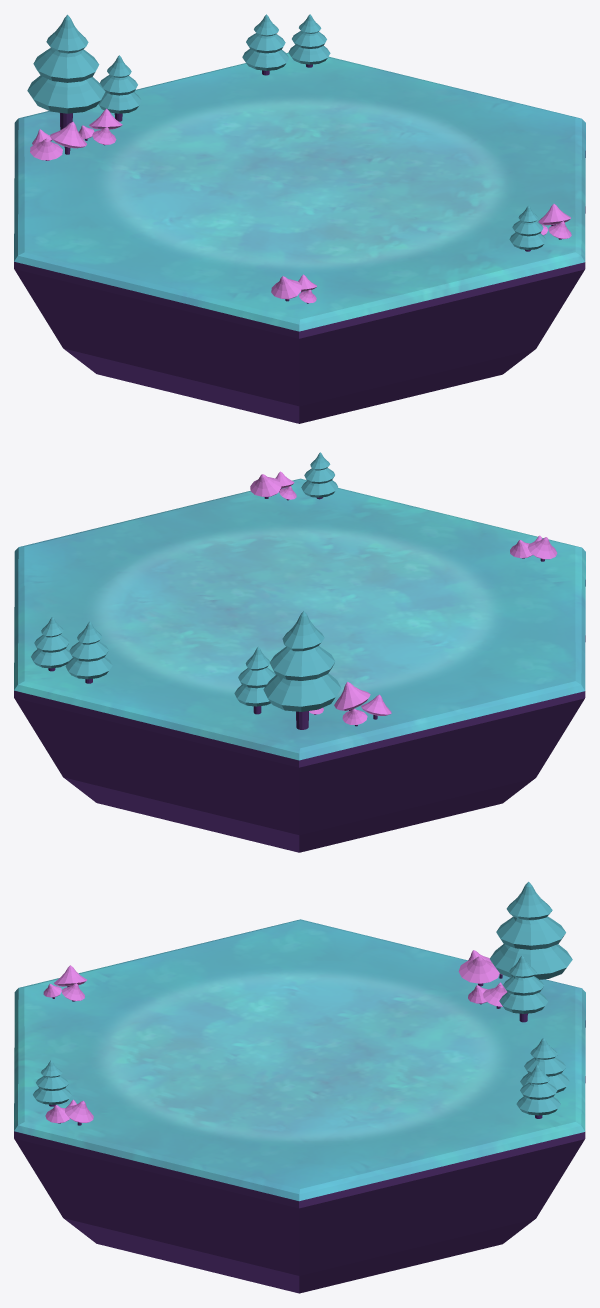
File: Asset_Biome_Forest_02.fbx
3 renders of one model, top to bottom at view 1: azimuth 30°, elevation 25°; view 2: azimuth 150°, elevation 25°; view 3: azimuth 270°, elevation 25°, orthographic.
Parts seen in each view (by area): view 1: Asset_Tile_Forest, PolySurface_TreeForest_04, PolySurface_TreeForest_09, PolySurface_TreeForest_010, PolySurface_TreeForest_07, PolySurface_MushroomForest_02, PolySurface_TreeForest_08, PolySurface_MushroomForest_04, PolySurface_MushroomForest_01, PolySurface_MushroomForest_03; view 2: Asset_Tile_Forest, PolySurface_TreeForest_04, PolySurface_TreeForest_09, PolySurface_TreeForest_010, PolySurface_TreeForest_07, PolySurface_MushroomForest_02, PolySurface_TreeForest_08, PolySurface_MushroomForest_03, PolySurface_MushroomForest_04; view 3: Asset_Tile_Forest, PolySurface_TreeForest_04, PolySurface_TreeForest_010, PolySurface_TreeForest_07, PolySurface_TreeForest_09, PolySurface_TreeForest_08, PolySurface_MushroomForest_02, PolySurface_MushroomForest_04, PolySurface_MushroomForest_03, PolySurface_MushroomForest_01.
Part boxes in pixels (<box>): Asset_Tile_Forest: <box>14,52,585,423</box>; PolySurface_TreeForest_04: <box>27,14,105,129</box>; PolySurface_TreeForest_09: <box>242,14,288,75</box>; PolySurface_TreeForest_010: <box>98,55,141,121</box>; PolySurface_TreeForest_07: <box>288,14,330,67</box>; PolySurface_MushroomForest_02: <box>30,121,86,160</box>; PolySurface_TreeForest_08: <box>509,205,546,251</box>; PolySurface_MushroomForest_04: <box>271,274,316,303</box>; PolySurface_MushroomForest_01: <box>78,108,122,145</box>; PolySurface_MushroomForest_03: <box>538,204,571,239</box>; Asset_Tile_Forest: <box>14,478,585,852</box>; PolySurface_TreeForest_04: <box>263,611,341,729</box>; PolySurface_TreeForest_09: <box>65,621,112,683</box>; PolySurface_TreeForest_010: <box>234,646,275,714</box>; PolySurface_TreeForest_07: <box>31,617,72,671</box>; PolySurface_MushroomForest_02: <box>334,682,391,726</box>; PolySurface_TreeForest_08: <box>301,452,337,499</box>; PolySurface_MushroomForest_03: <box>250,471,296,500</box>; PolySurface_MushroomForest_04: <box>510,535,557,561</box>; Asset_Tile_Forest: <box>14,919,585,1293</box>; PolySurface_TreeForest_04: <box>490,881,572,979</box>; PolySurface_TreeForest_010: <box>499,955,548,1022</box>; PolySurface_TreeForest_07: <box>516,1065,560,1118</box>; PolySurface_TreeForest_09: <box>520,1038,569,1092</box>; PolySurface_TreeForest_08: <box>33,1060,71,1106</box>; PolySurface_MushroomForest_02: <box>458,950,502,986</box>; PolySurface_MushroomForest_04: <box>43,965,86,1001</box>; PolySurface_MushroomForest_03: <box>45,1099,93,1125</box>; PolySurface_MushroomForest_01: <box>468,982,507,1008</box>.
Bounding box in the file's own units: 436 × 195 × 378.
